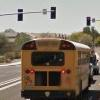traffic lights: (50, 6, 57, 21), (86, 16, 91, 26), (19, 12, 23, 22)
